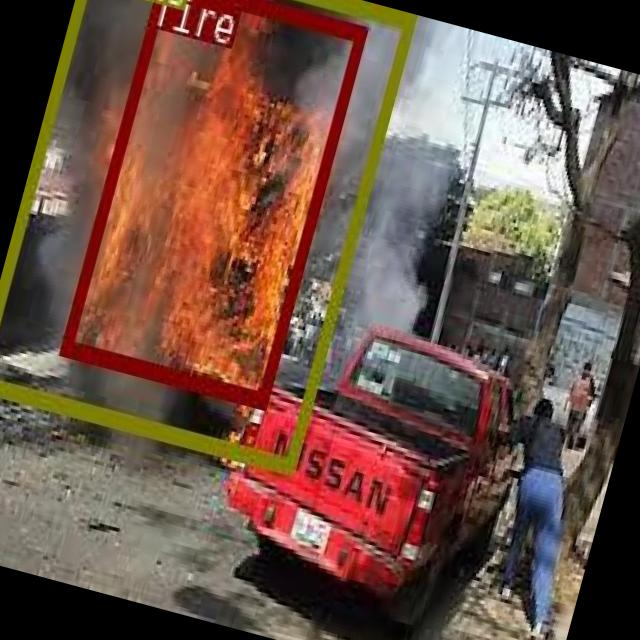fire: (58, 0, 366, 404)
smoke: (0, 0, 415, 469)
